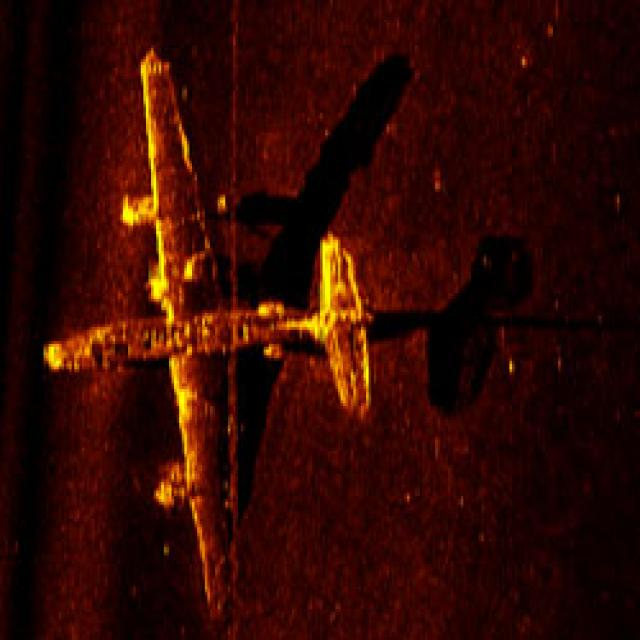plane: (18, 23, 402, 620)
